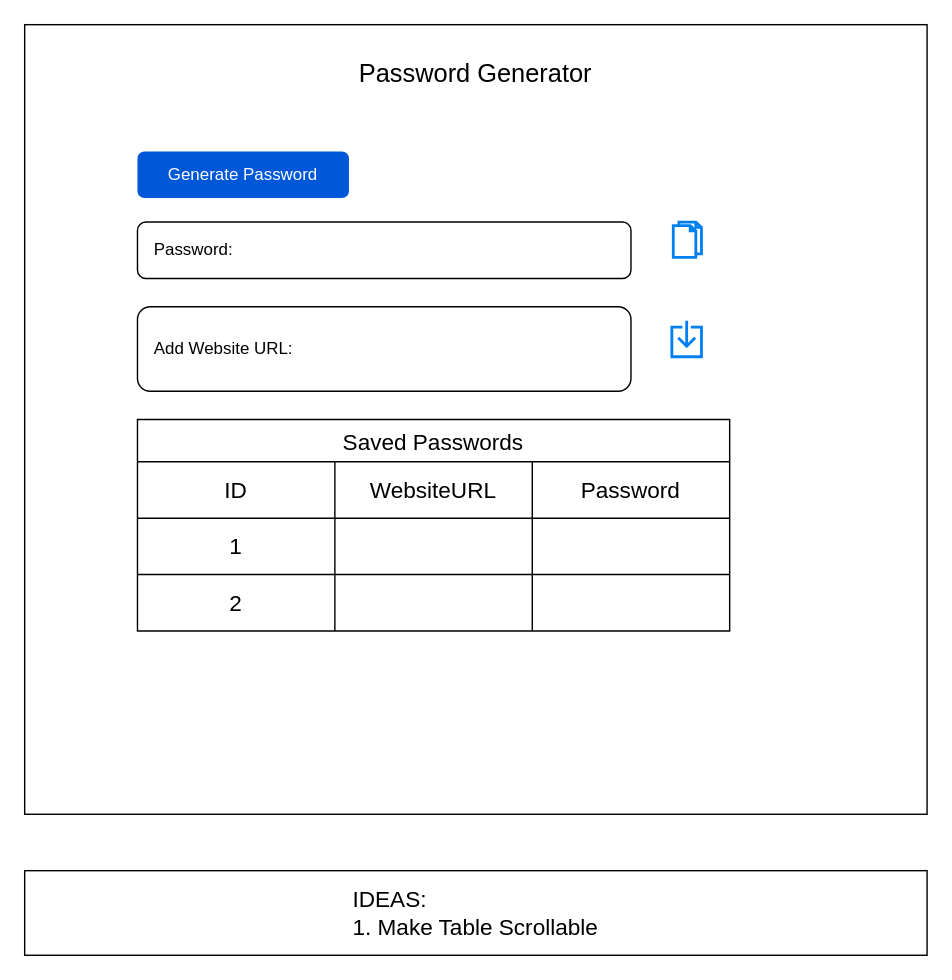
Image size: 952x980. Some labels were removed from this diagram. Here are the shapes that lost their labels. From the top down, the centre of each, then its label:
the point at 686,239: copy-btn
the point at 686,338: save-btn
